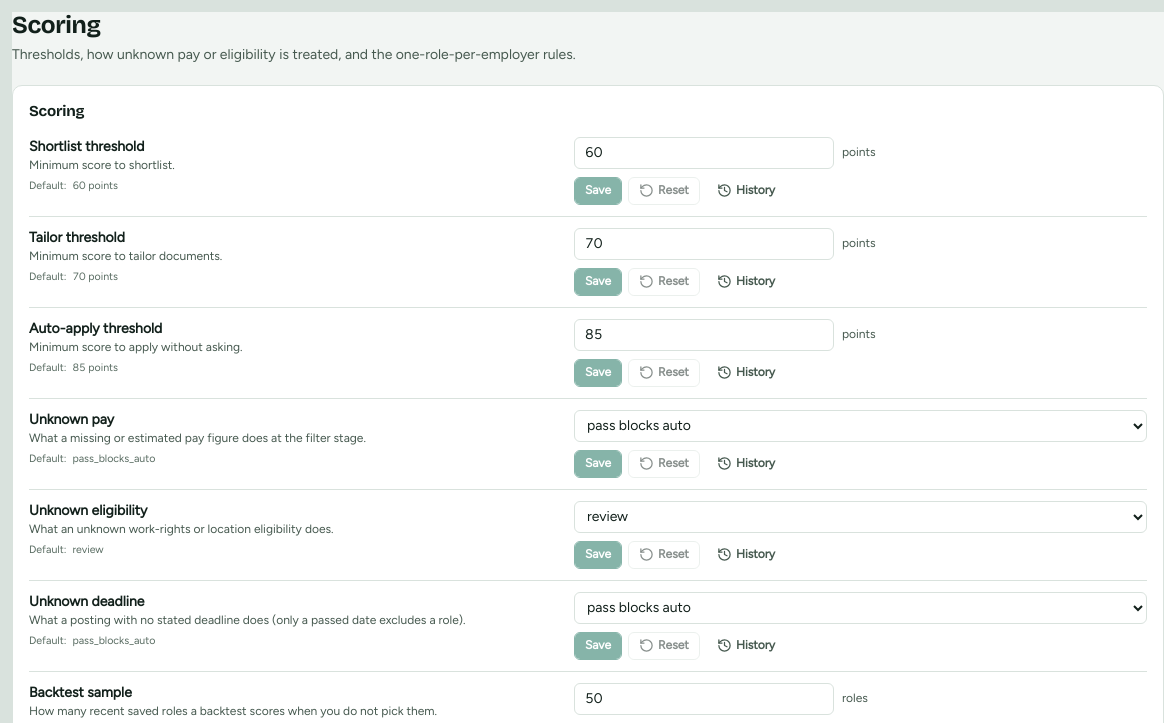
Test case: SettingRow › resets a changed setting to its default
Replace the text in the field labelled "Shortlist threshold" with "70" at (704, 153), box [574,137,834,169]
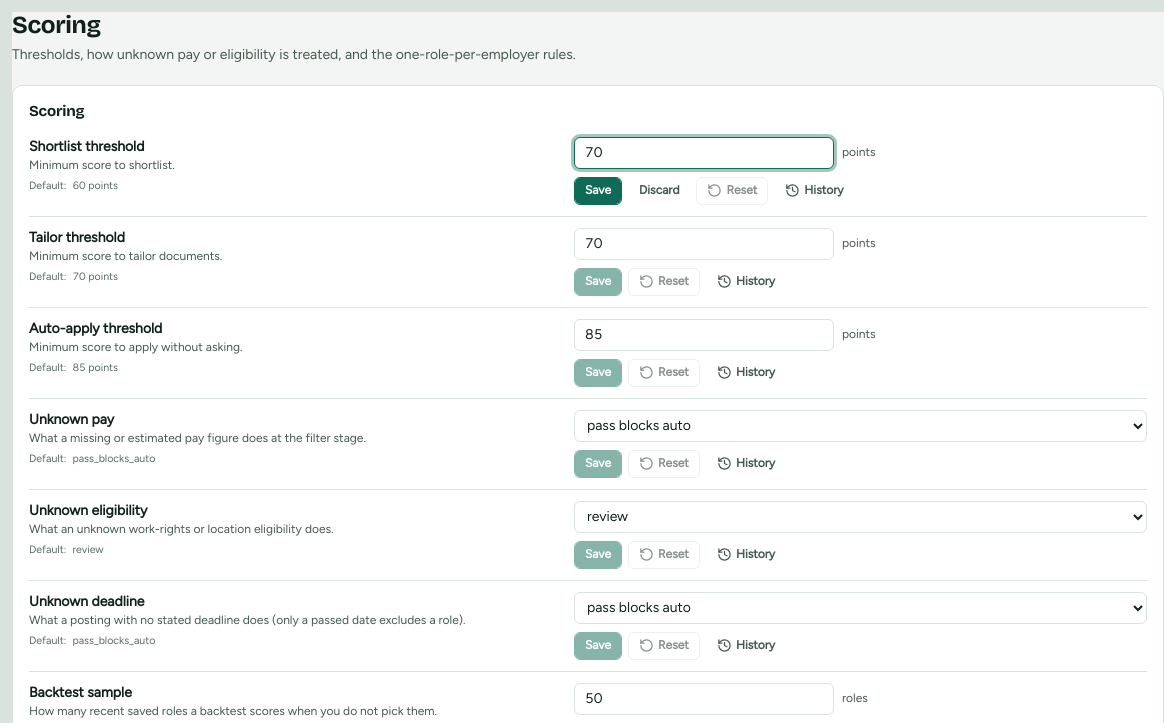
Click the button with aria-label "Save Shortlist threshold" at (598, 191), box [574,177,622,205]
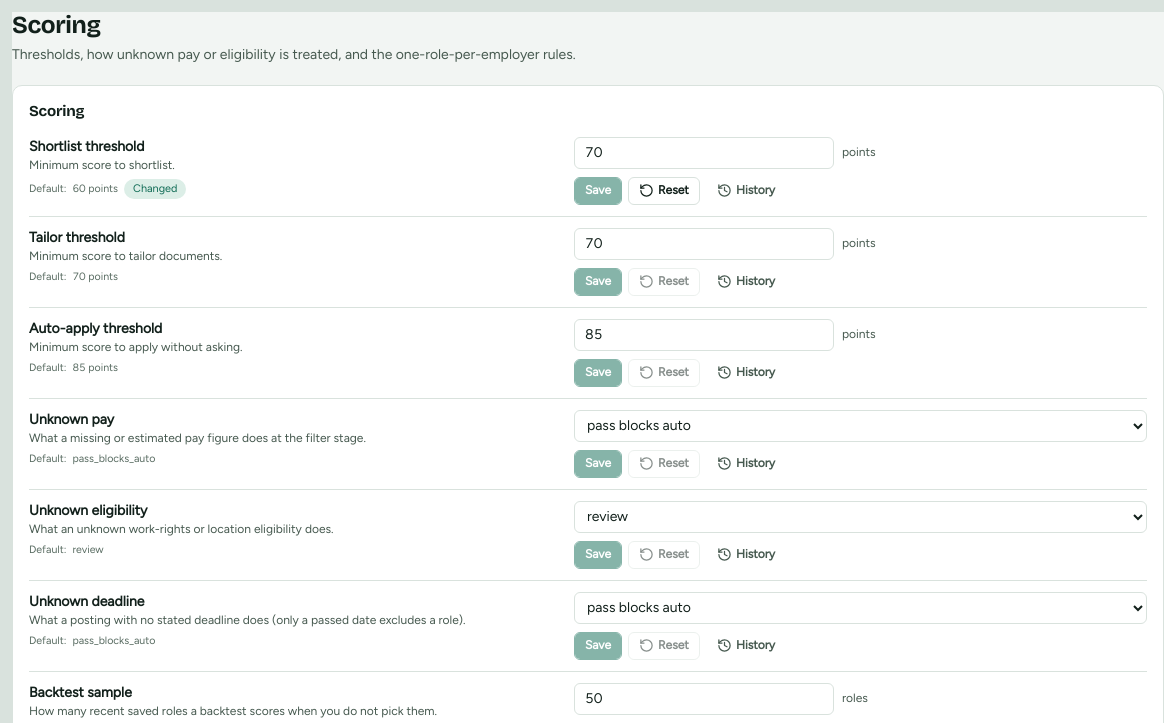
Now the button with aria-label "Reset Shortlist threshold to default" is enabled
Click the button with aria-label "Reset Shortlist threshold to default" at (664, 191), box [628,177,700,205]
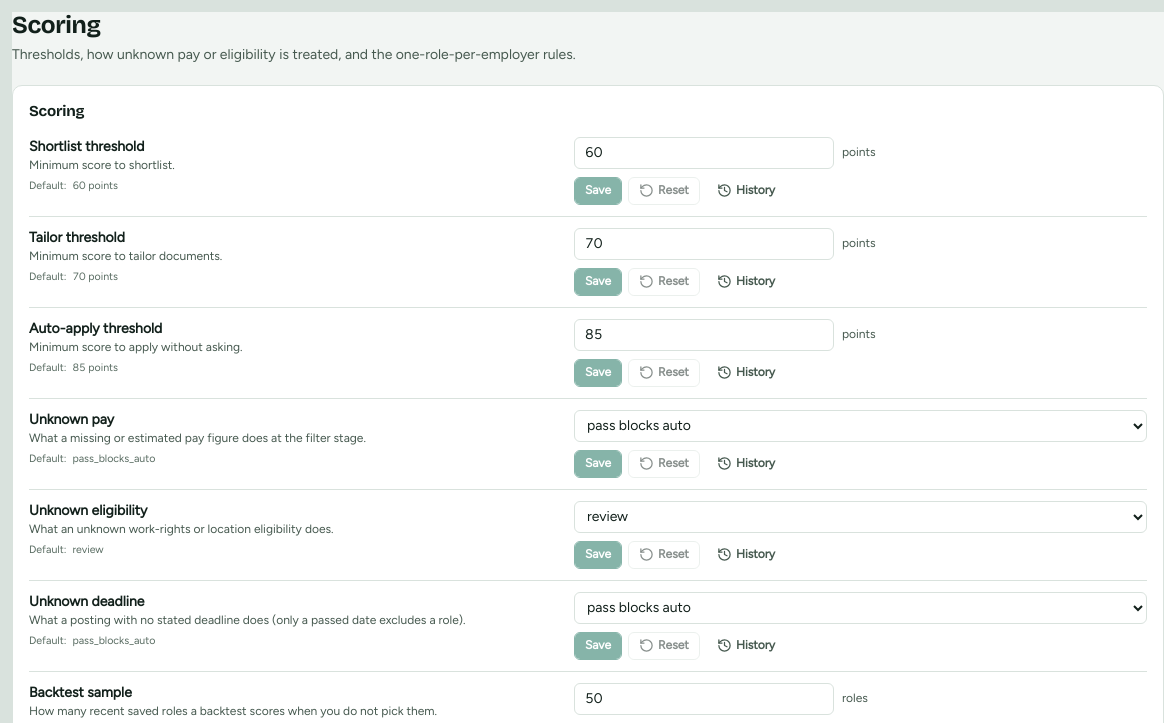
Now the field labelled "Shortlist threshold" holds "60", box [574,137,834,169]
Now the button with aria-label "Reset Shortlist threshold to default" is disabled, box [628,177,700,205]
